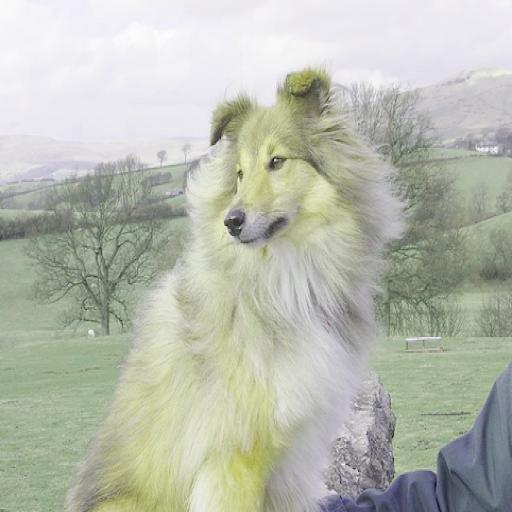dog_face: (206, 65, 346, 269)
